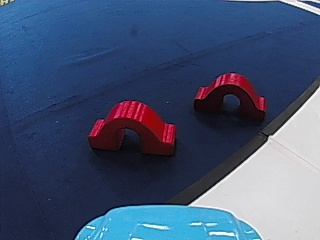bridge: (85, 96, 180, 154), (193, 68, 270, 119)
